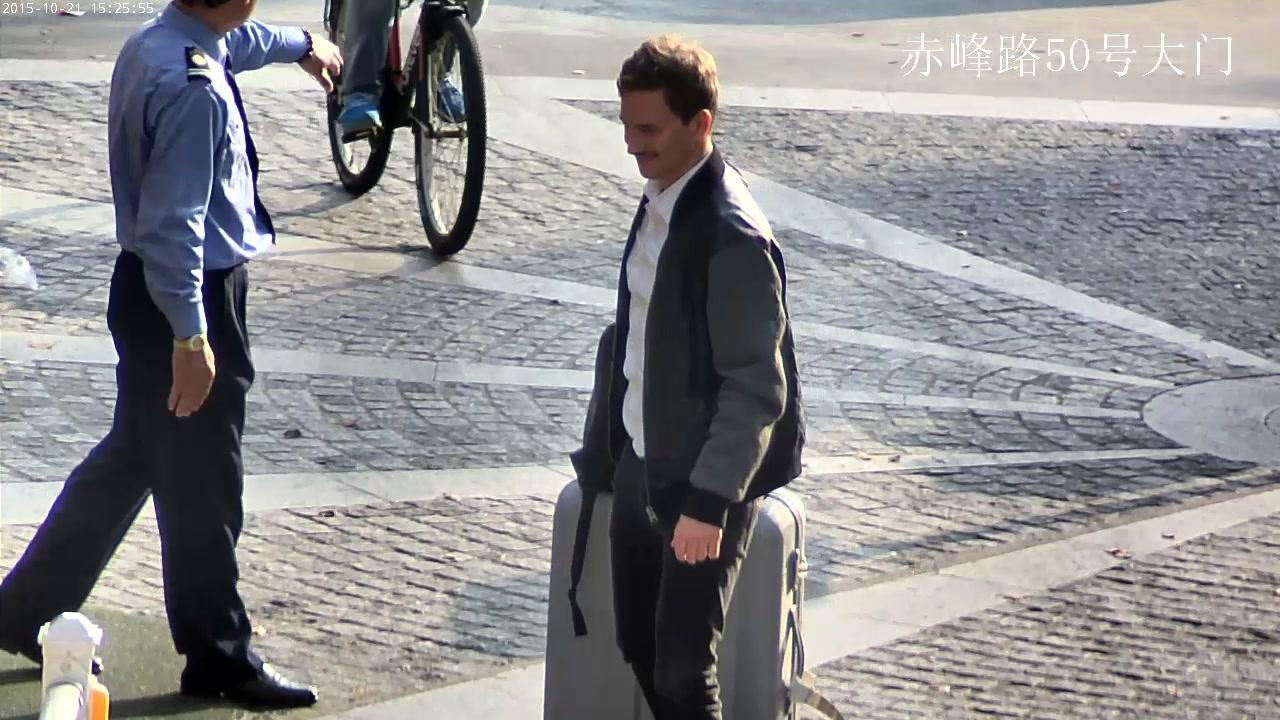face: (618, 82, 694, 180)
